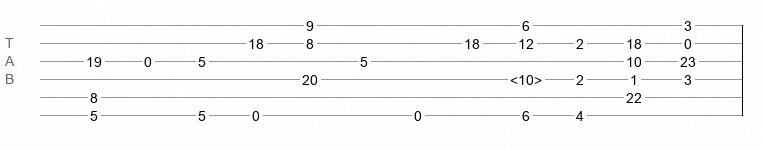0: (144, 54, 152, 64), (252, 108, 260, 118), (414, 108, 422, 118), (684, 36, 692, 46)
1: (630, 72, 638, 82)
10: (626, 54, 642, 64)
12: (518, 36, 534, 46)
18: (248, 36, 264, 46), (464, 36, 480, 46), (626, 36, 642, 46)
19: (86, 54, 102, 64)
2: (576, 36, 584, 46), (576, 72, 584, 82)
20: (302, 72, 318, 82)
22: (626, 90, 642, 100)
23: (680, 54, 696, 64)
3: (684, 18, 692, 28), (684, 72, 692, 82)
4: (576, 108, 584, 118)
5: (90, 108, 98, 118), (198, 54, 206, 64), (198, 108, 206, 118), (360, 54, 368, 64)
6: (522, 108, 530, 118), (522, 18, 530, 28)
8: (90, 90, 98, 100), (306, 36, 314, 46)
9: (306, 18, 314, 28)
harmonic: (510, 72, 542, 82)
